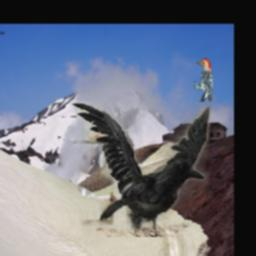Crow: (71, 102, 211, 238)
Woodpecker: (194, 58, 213, 102)
